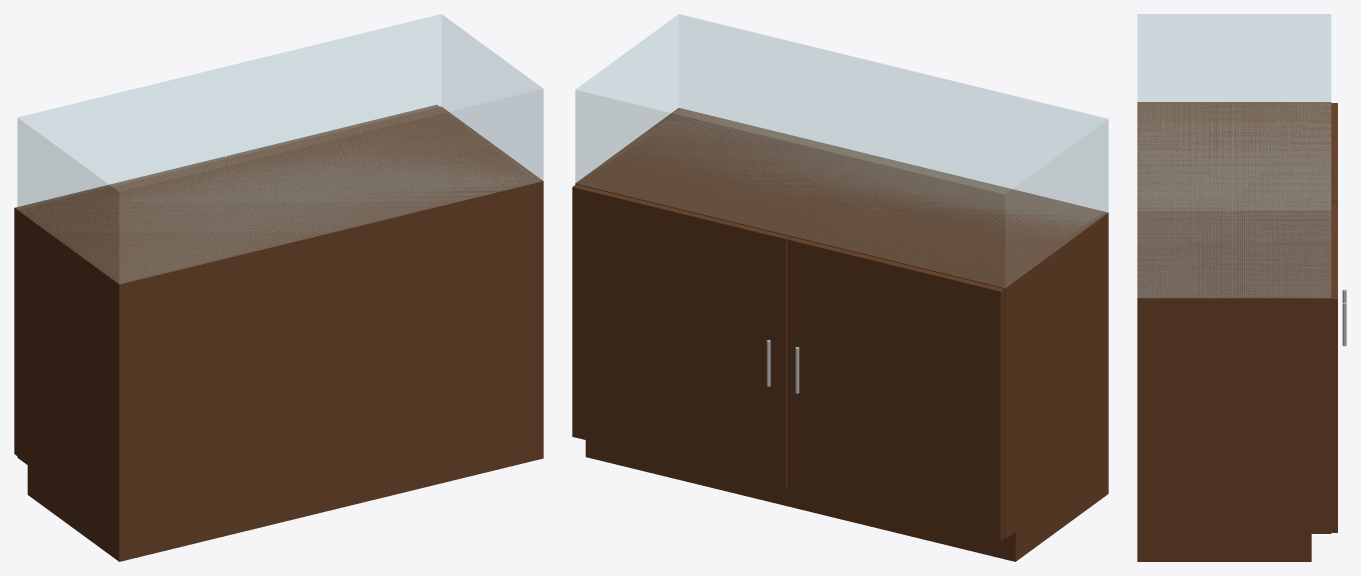
The model's file is retail.shop.jewellery_case.glb.
3 renders of one model, left to right at view 1: azimuth 30°, elevation 25°; view 2: azimuth 150°, elevation 25°; view 3: azimuth 270°, elevation 25°, orthographic. The views are drawn at different scales.
Visible parts, largest first — view 1: main__hardwood, main__glass; view 2: main__hardwood, main__glass; view 3: main__hardwood, main__glass, main__steel_stainless.
Boxes of the visible parts, x1,y1,x2,y2 form: main__hardwood: (14, 105, 543, 561); main__glass: (17, 14, 543, 284); main__hardwood: (572, 108, 1108, 561); main__glass: (575, 14, 1108, 287); main__hardwood: (1137, 102, 1337, 561); main__glass: (1137, 14, 1330, 297); main__steel_stainless: (1342, 289, 1346, 346).
Bounding box in the file's own units: 1.2 × 1 × 0.54.
